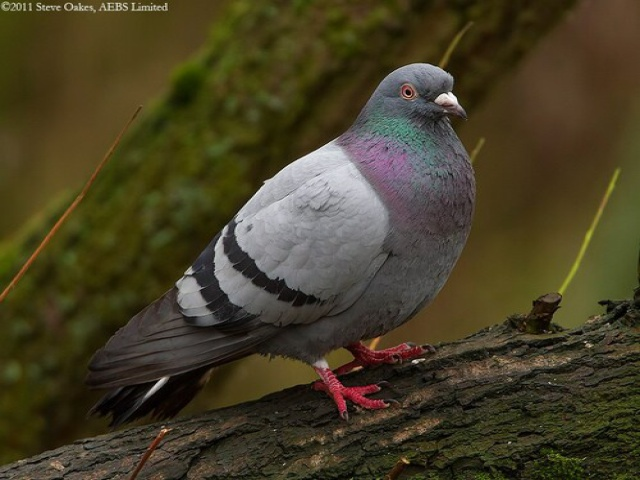Pigeon: (82, 61, 482, 429)
